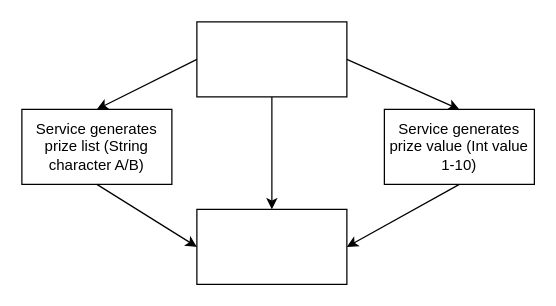
This 556x306 diagram has some shape labels left out. Here are the shapes that lost their labels. From the top down, the centre of each, then its label:
At pixel 271 59: "User inputs email".
At pixel 271 246: "Service returns email and prize information to user and saves to DB".
